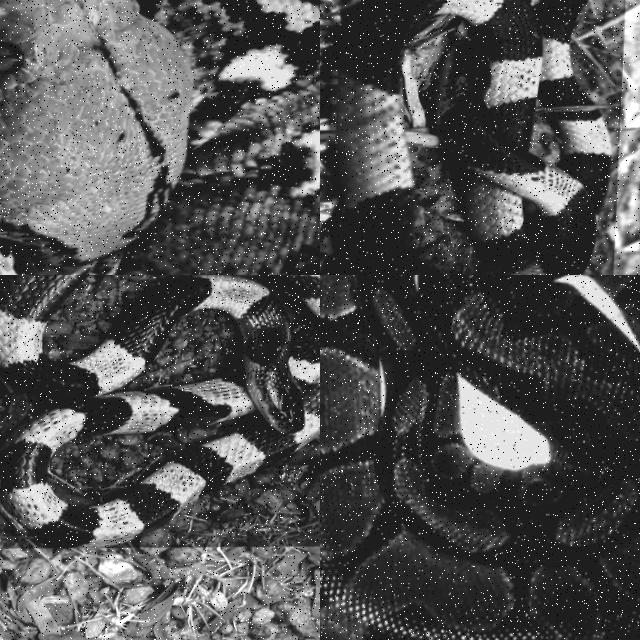Bungarus candidus: (0, 275, 319, 547), (332, 0, 609, 274)
Malayopython reticulatus: (0, 0, 319, 274)
Python bivittatus: (320, 275, 639, 639)
snake: (320, 275, 639, 639), (0, 0, 319, 274), (0, 275, 319, 547), (332, 0, 609, 274)
